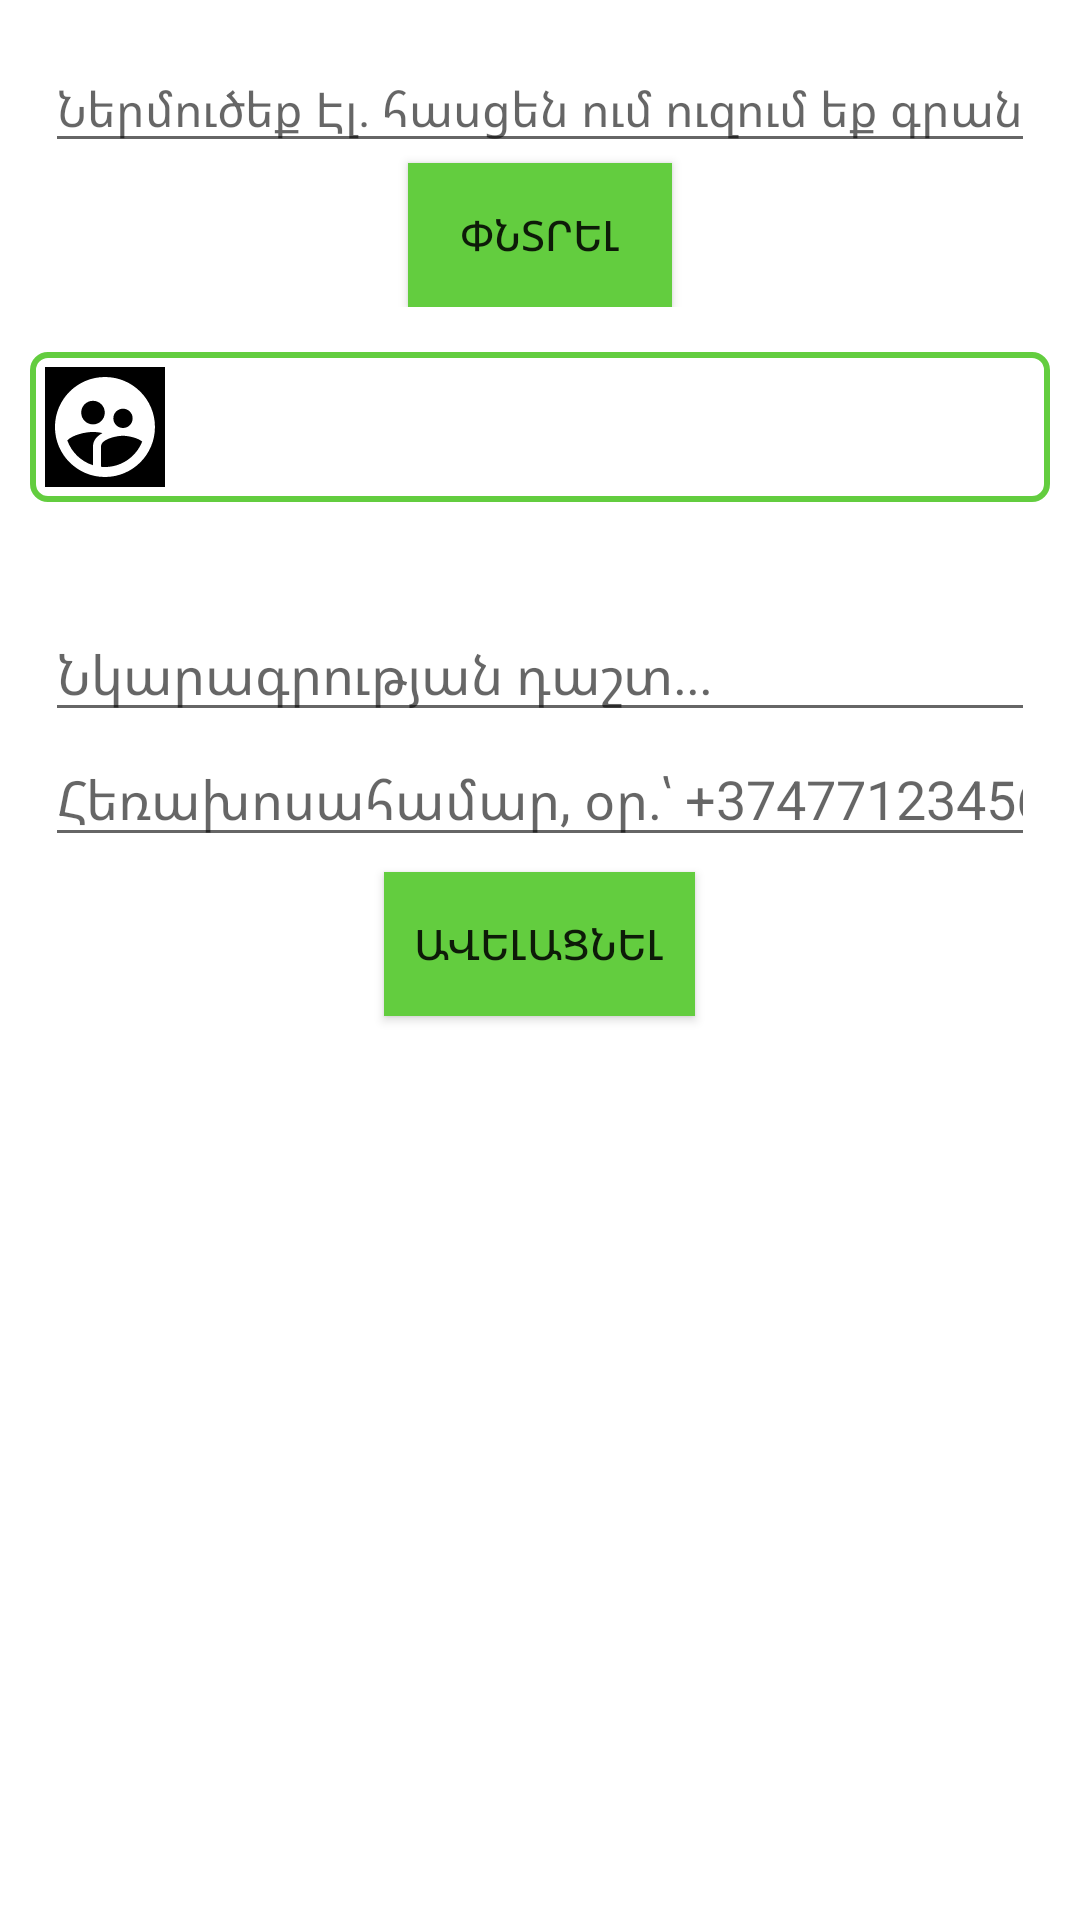

Locate icon controls on the screen. Image size 1080*1920, boxes as (x1, y1, x2, y2).
supervised user circle: (45, 367, 165, 487)
